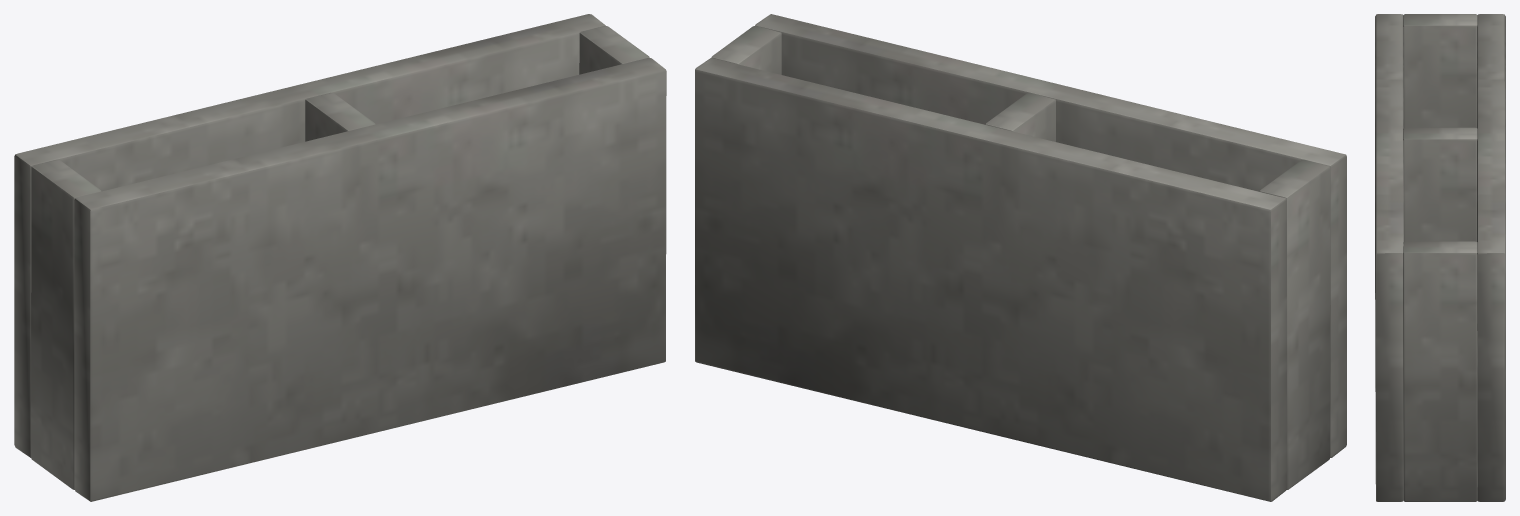
File: ALV-BCO-006_lod1.glb
3 views of the same model, side by side, from view 1: azimuth 30°, elevation 25°; view 2: azimuth 150°, elevation 25°; view 3: azimuth 270°, elevation 25° (orthographic). The views are drawn at different scales.
Visible parts, largest first — view 1: ALV-BCO-006_pf1, ALV-BCO-006_pf2, ALV-BCO-006_t0, ALV-BCO-006_t1, ALV-BCO-006_t2; view 2: ALV-BCO-006_pf2, ALV-BCO-006_pf1, ALV-BCO-006_t0, ALV-BCO-006_t2, ALV-BCO-006_t1; view 3: ALV-BCO-006_t2, ALV-BCO-006_pf2, ALV-BCO-006_pf1, ALV-BCO-006_t1, ALV-BCO-006_t0.
Boxes of the visible parts, bbox=[...] form: ALV-BCO-006_pf1: bbox=[74, 58, 666, 501]; ALV-BCO-006_pf2: bbox=[14, 14, 605, 457]; ALV-BCO-006_t0: bbox=[31, 159, 101, 489]; ALV-BCO-006_t1: bbox=[305, 92, 375, 141]; ALV-BCO-006_t2: bbox=[579, 26, 649, 74]; ALV-BCO-006_pf2: bbox=[695, 58, 1286, 501]; ALV-BCO-006_pf1: bbox=[755, 14, 1346, 457]; ALV-BCO-006_t0: bbox=[1259, 159, 1330, 489]; ALV-BCO-006_t2: bbox=[711, 26, 781, 74]; ALV-BCO-006_t1: bbox=[985, 93, 1055, 141]; ALV-BCO-006_t2: bbox=[1403, 241, 1477, 501]; ALV-BCO-006_pf2: bbox=[1477, 14, 1505, 501]; ALV-BCO-006_pf1: bbox=[1375, 14, 1403, 501]; ALV-BCO-006_t1: bbox=[1403, 127, 1477, 241]; ALV-BCO-006_t0: bbox=[1403, 14, 1477, 127].
Size of the model in its own units: 0.39 by 0.19 by 0.09.
Materials: 1 (1 with a texture image).
